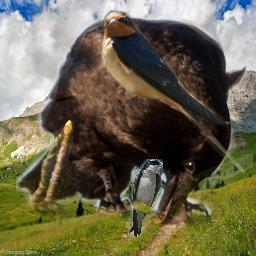Crow: (14, 14, 253, 228)
Swallow: (100, 10, 247, 175), (129, 159, 163, 237)
